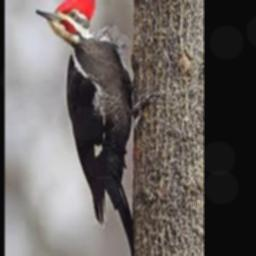Woodpecker: (37, 0, 160, 256)
